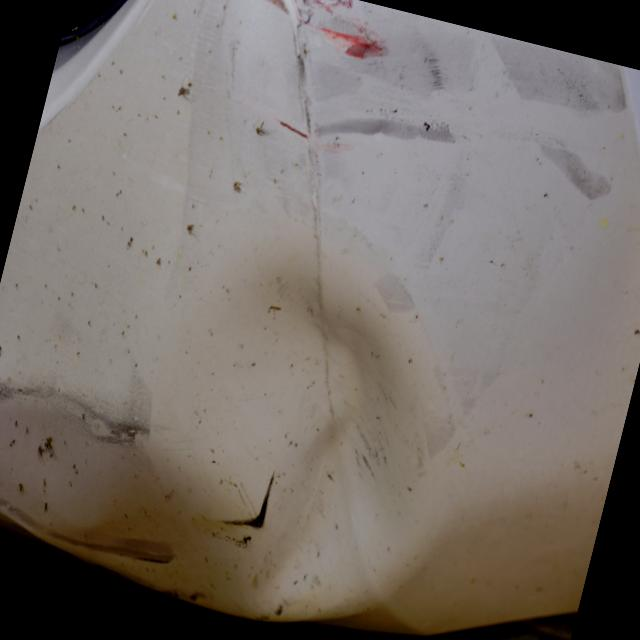Cabossage: (119, 218, 479, 640)
Rayure: (0, 355, 215, 588)
